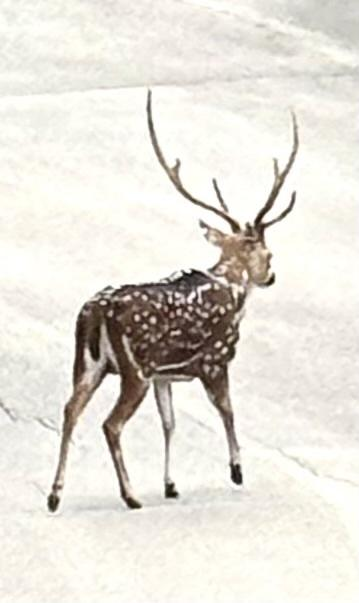Deer: (47, 92, 296, 511)
